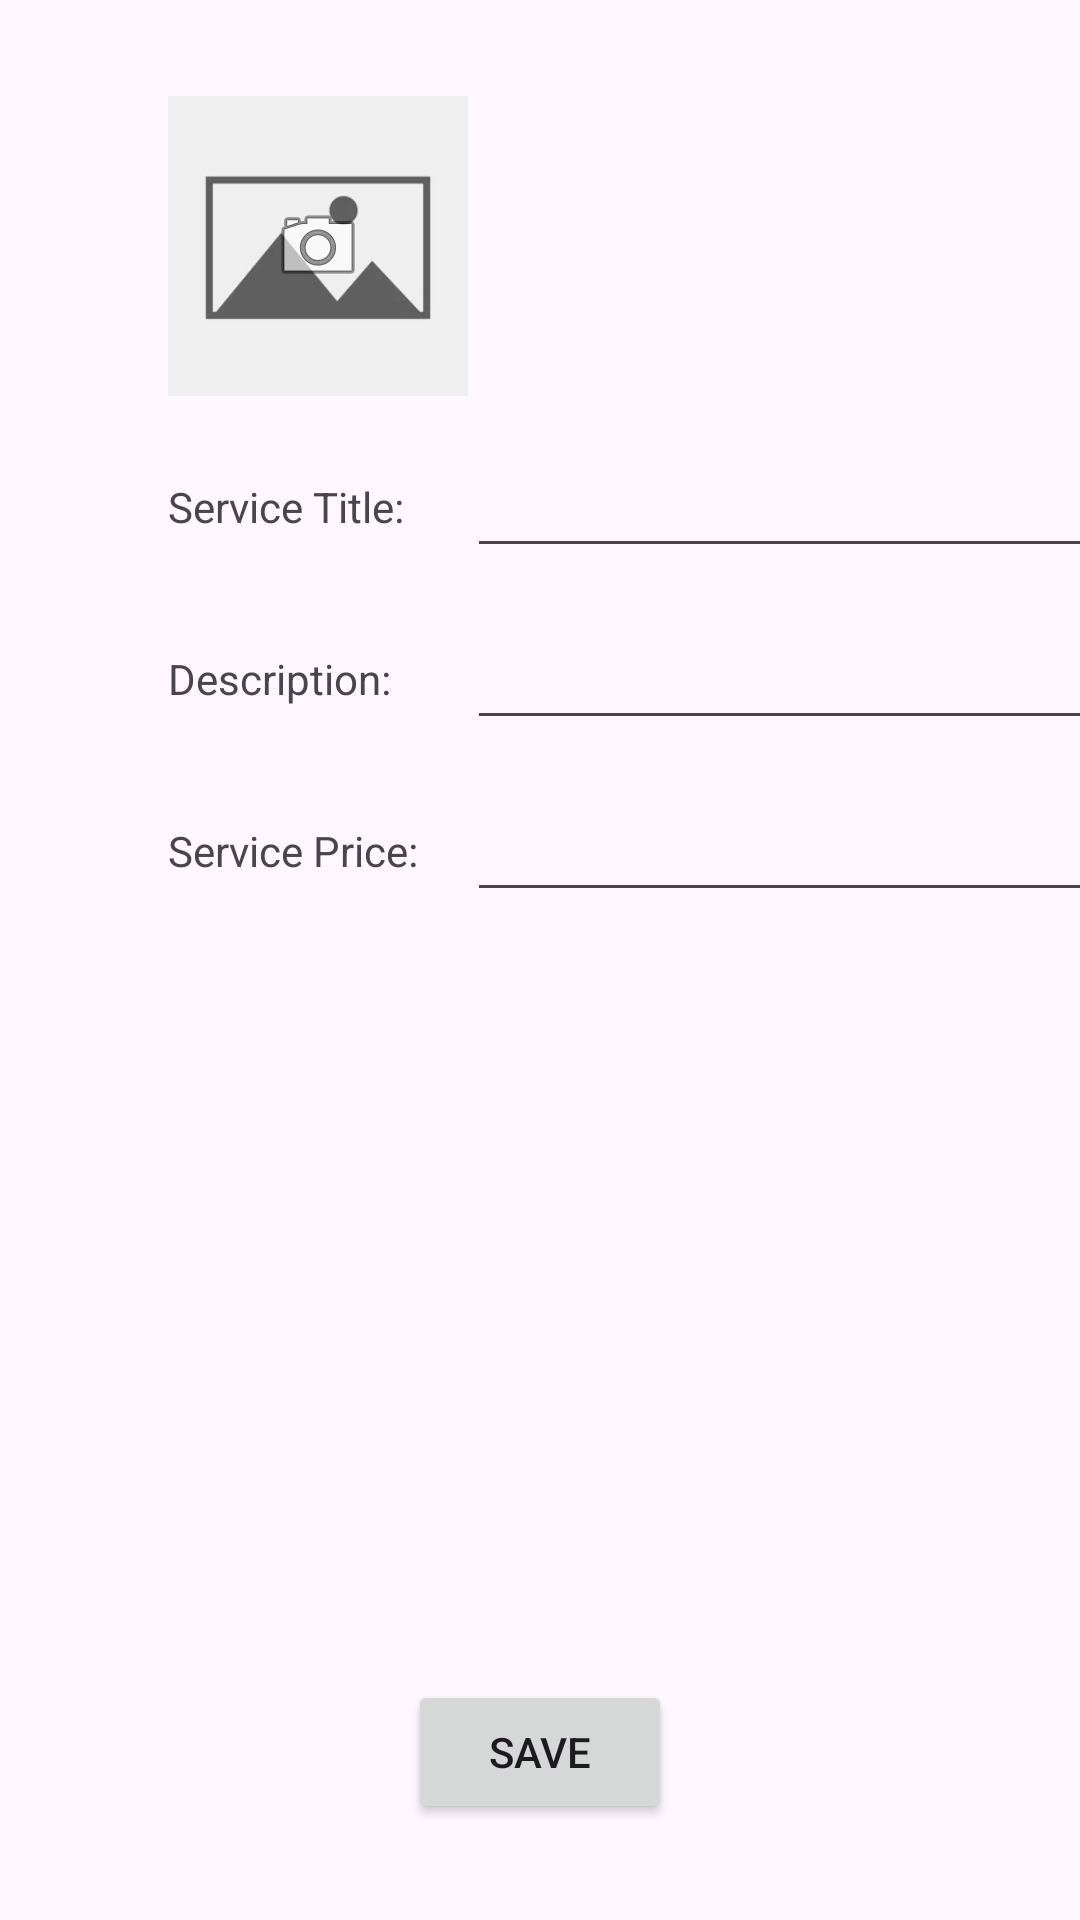

Icon bounding boxes for this 1080px x 1920px phone screenshot, format (x1, y1, x2, y2):
camera: (168, 96, 468, 396)
